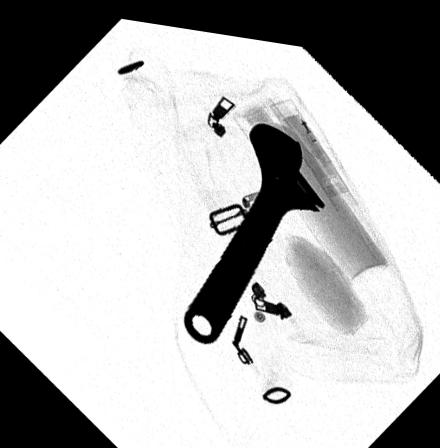Wrench: (180, 114, 326, 339)
